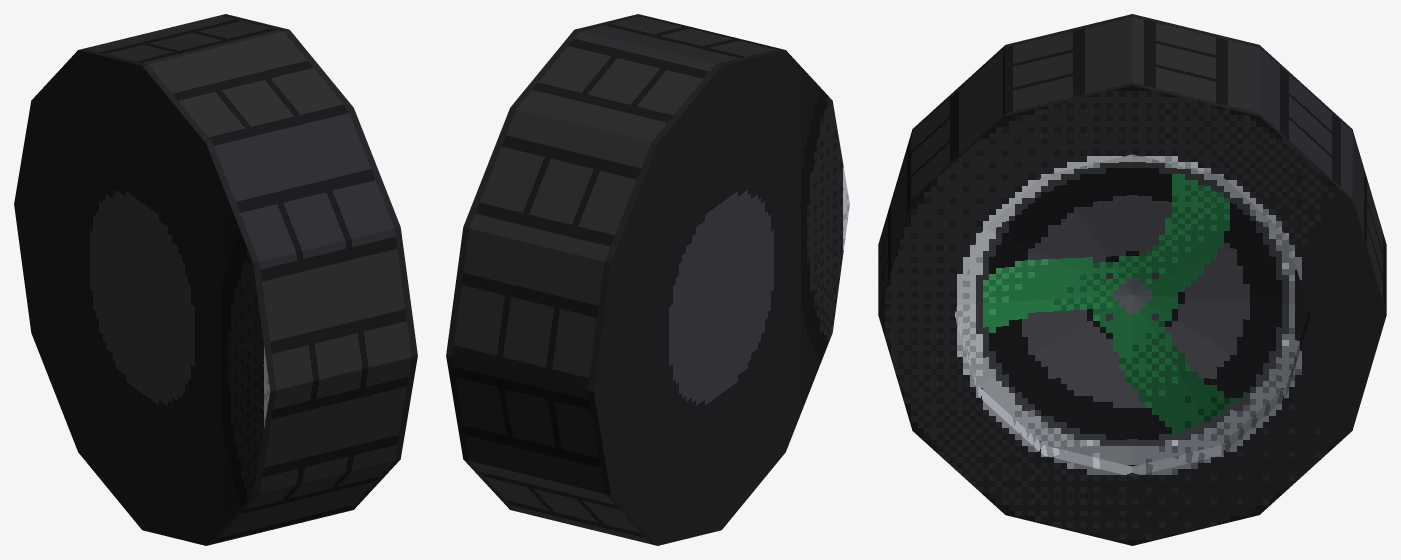
The model's file is wheel_tri.glb.
The picture shows the model from 3 angles, left to right: view 1: azimuth 30°, elevation 25°; view 2: azimuth 150°, elevation 25°; view 3: azimuth 270°, elevation 25°; orthographic projection.
Visible parts, largest first — view 1: wheel_tri; view 2: wheel_tri; view 3: wheel_tri.
Part boxes in pixels (box(x1,y1,x2,y2)): wheel_tri: box(14, 14, 417, 545); wheel_tri: box(446, 14, 849, 545); wheel_tri: box(878, 14, 1386, 545).
Size of the model in its own units: 0.205 by 0.6163 by 0.6163.
Materials: 1 (1 with a texture image).
